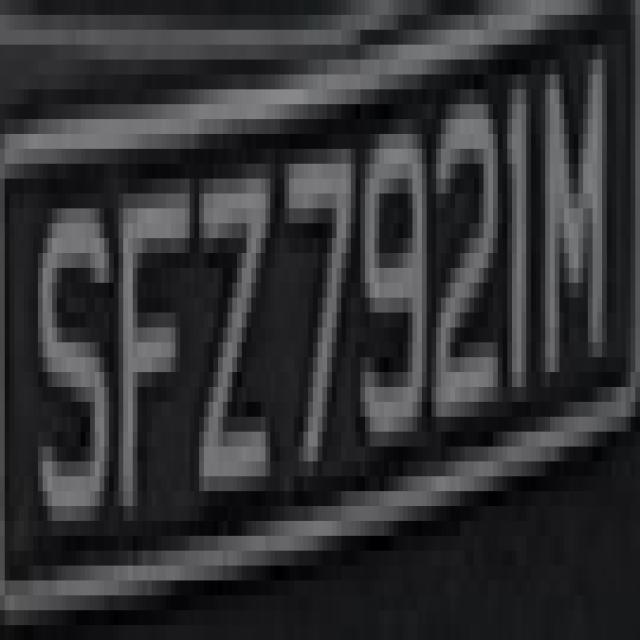1: (488, 15, 536, 446)
2: (422, 45, 507, 476)
7: (270, 104, 360, 521)
9: (346, 89, 436, 491)
F: (109, 164, 185, 521)
M: (522, 44, 616, 447)
S: (28, 164, 114, 566)
Z: (180, 134, 275, 506)
